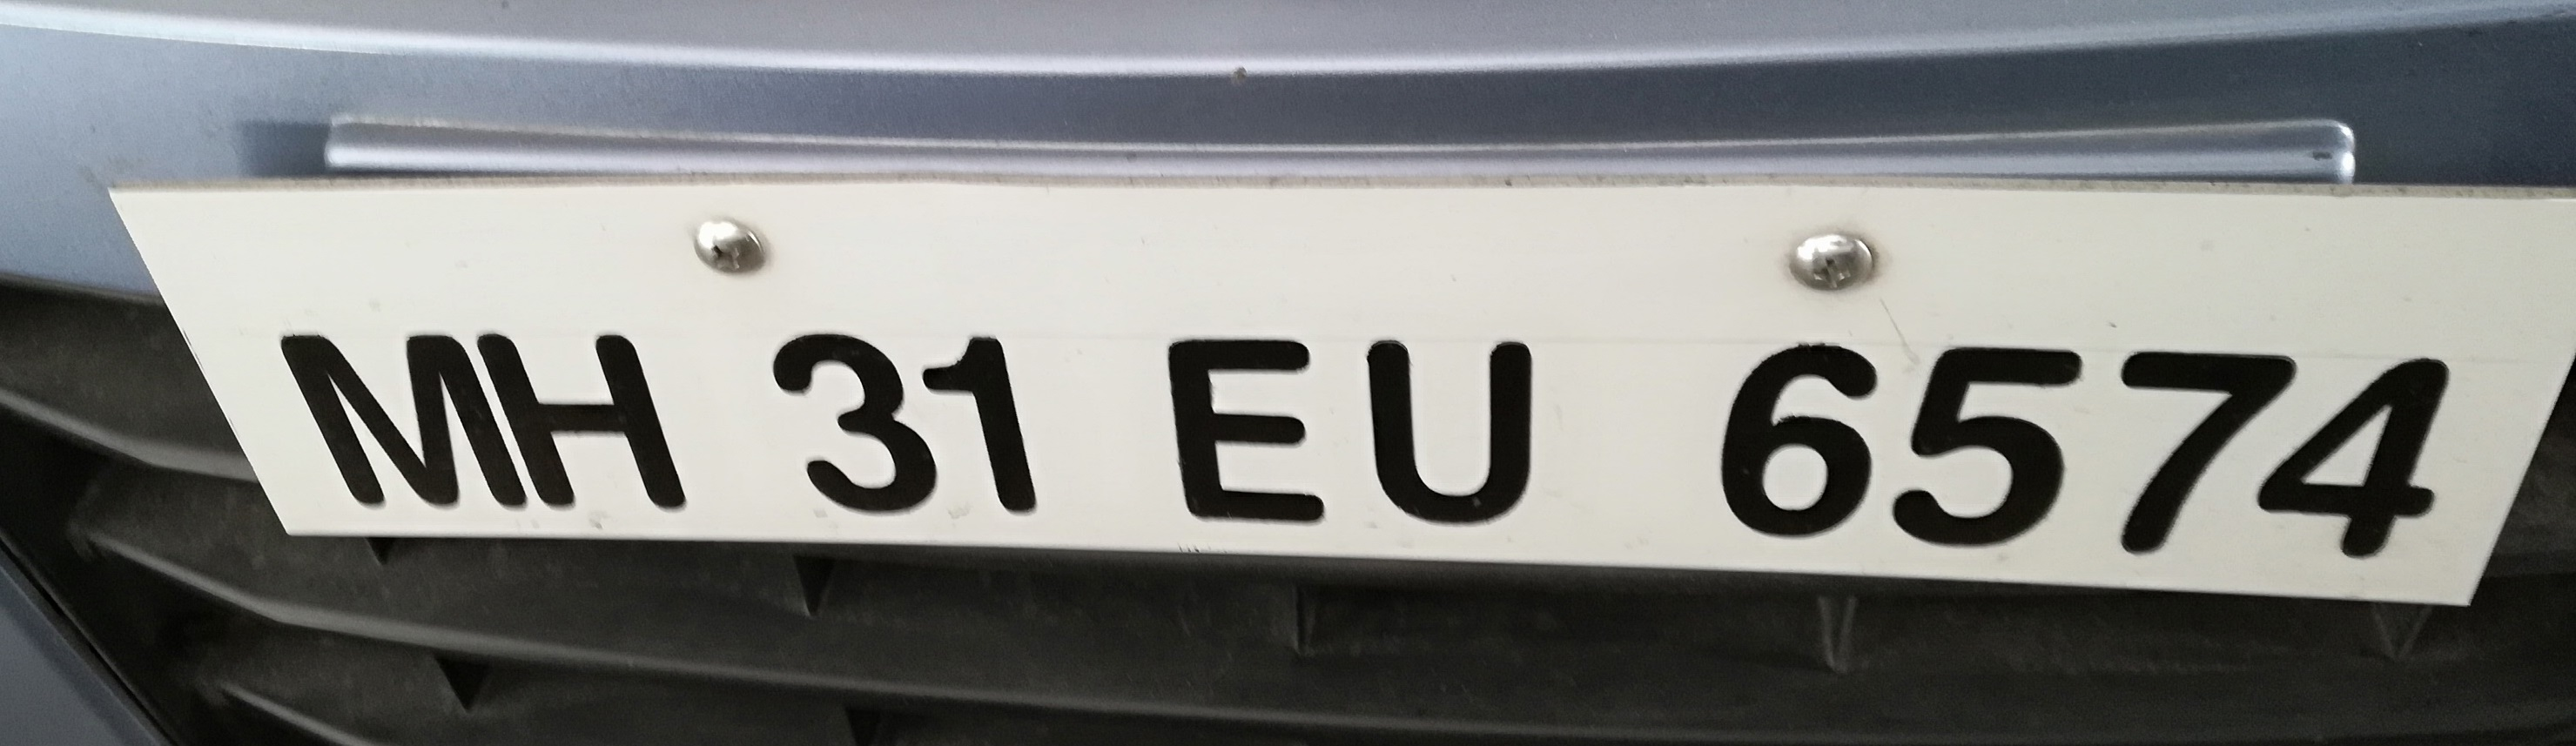numberplate: (109, 173, 2576, 619)
